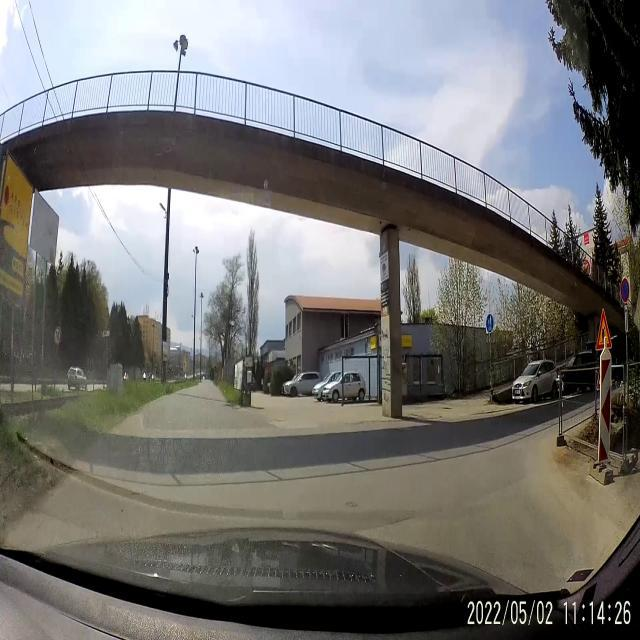Pothole: (342, 493, 360, 515)
